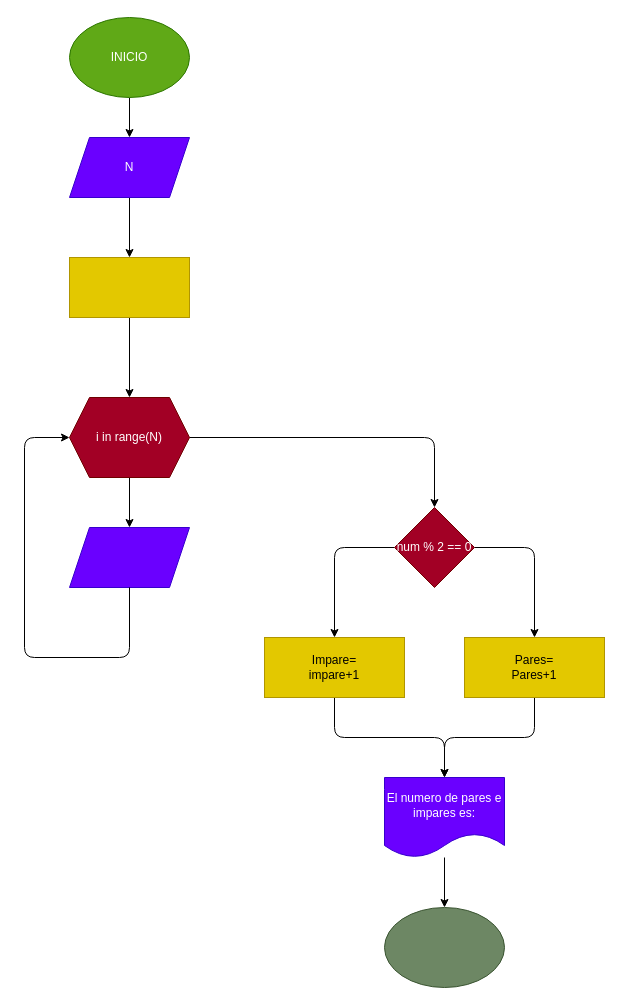
Image size: 622x1005. Some labels were removed from this diagram. The centre of each missing label's shape, as x and y in pixels:
FIN: point 444,947
num: point 129,557
Pare=0 Impare=0: point 129,287
